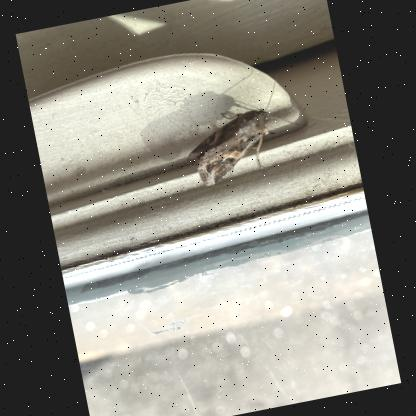Fall Armyworm Moth: (172, 69, 310, 192)
